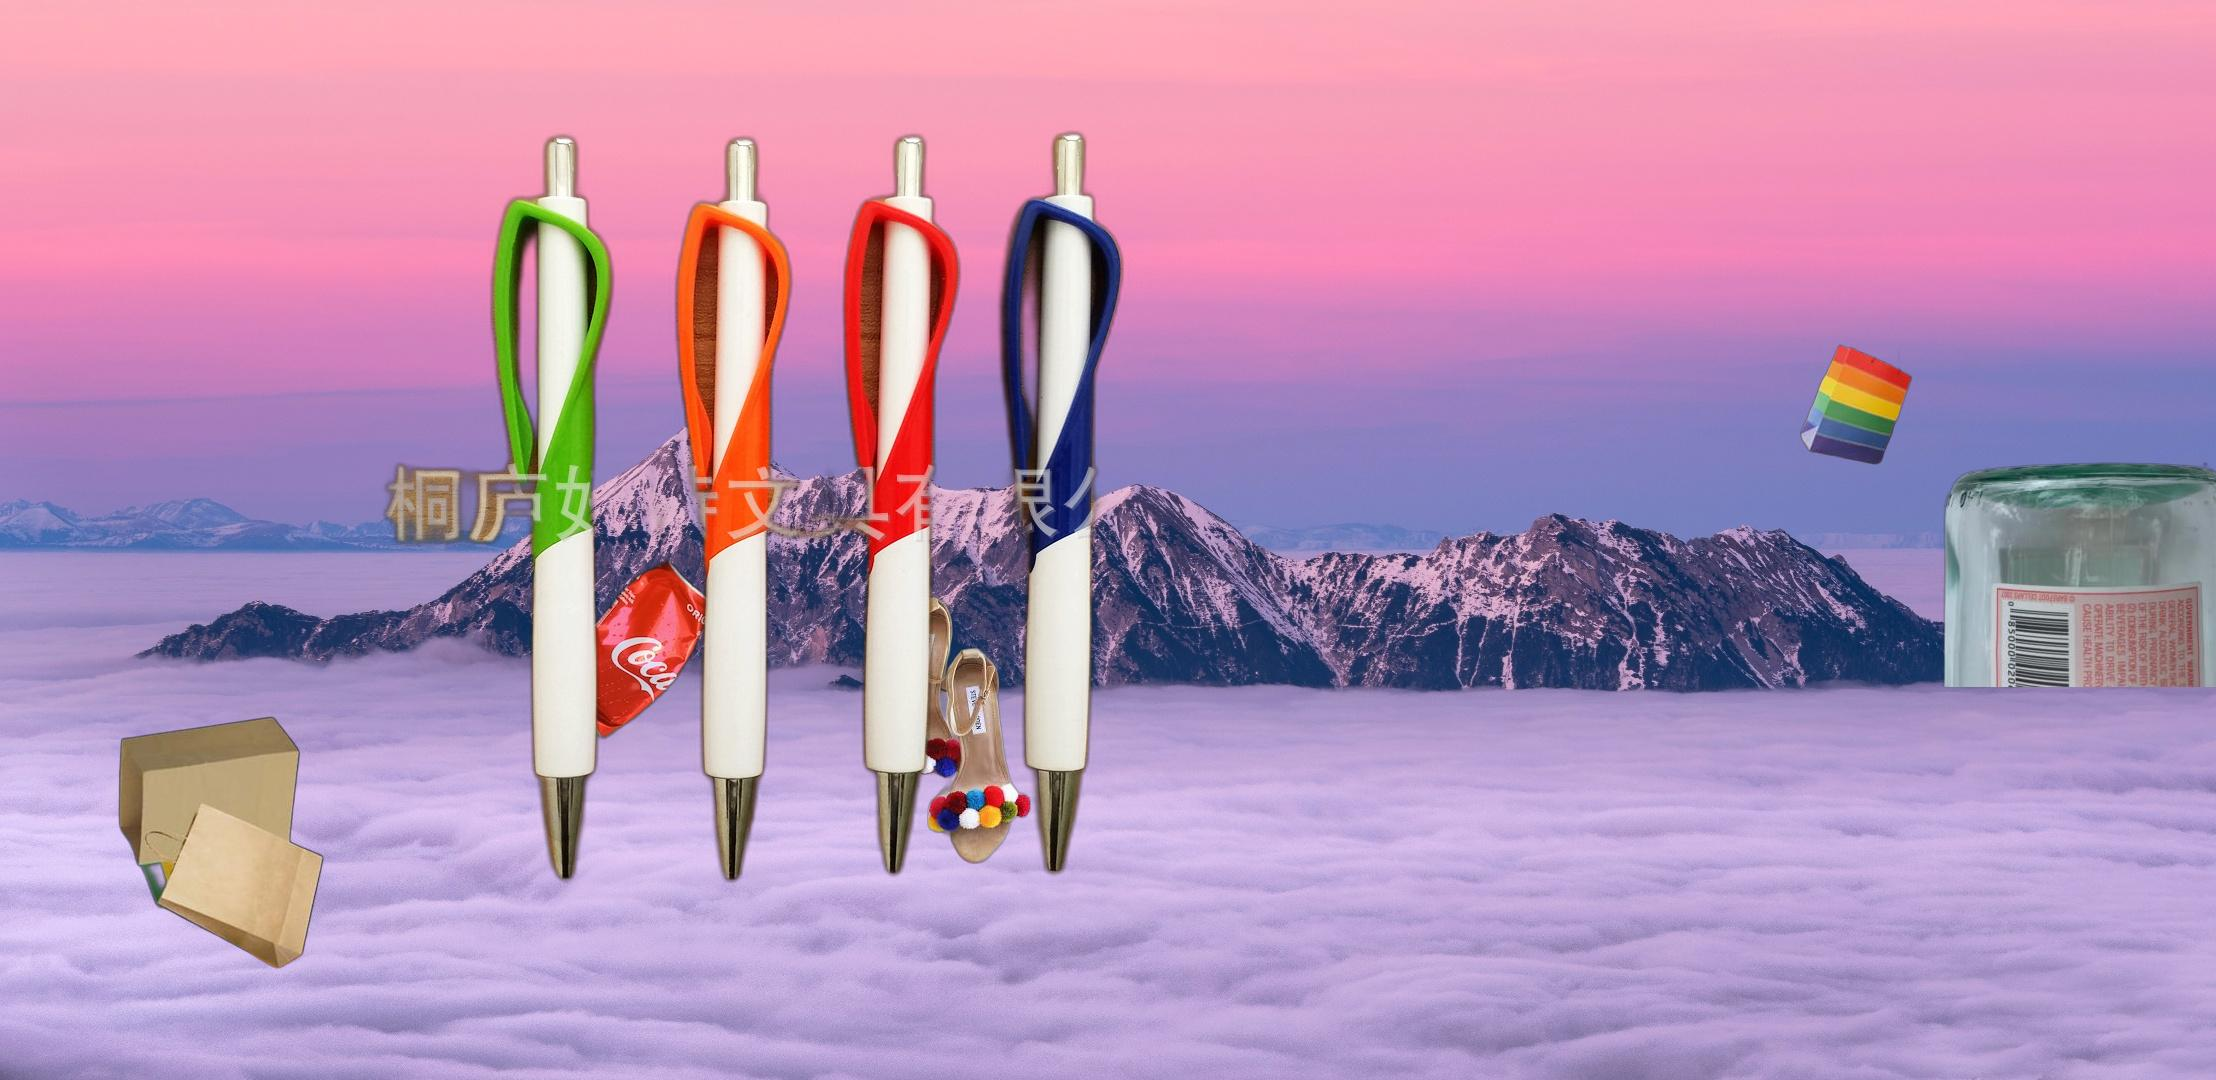glass: (1939, 459, 2216, 687)
metal-cans: (548, 554, 741, 1080), (1863, 1074, 2216, 1080)
paper-bag: (116, 717, 326, 971), (1798, 344, 1914, 466)
penholder: (376, 124, 1131, 888)
shoes: (871, 595, 1035, 865)
